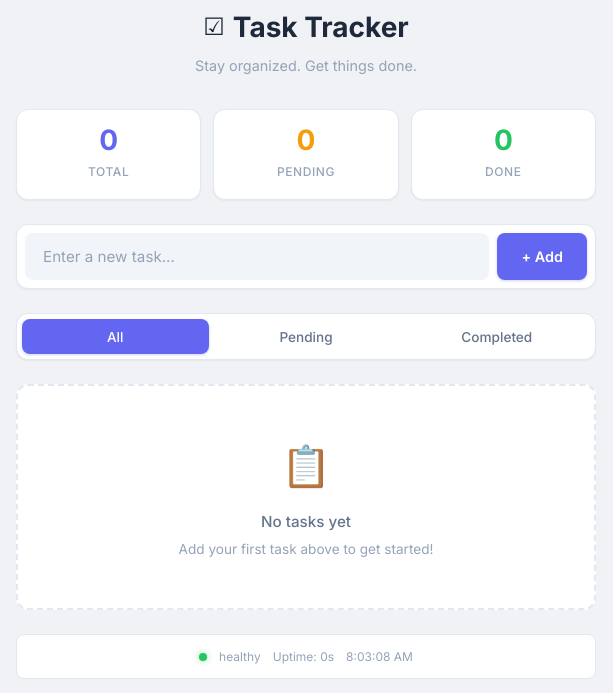
Test: App – Integration › filters tasks by status
Note: Add two tasks
Step 1. Type "Task A" into the field with placeholder "Enter a new task..." → (257, 257), box [25,233,490,280]
Step 2. Click the button "+ Add" → click(542, 257), box [498,233,587,280]
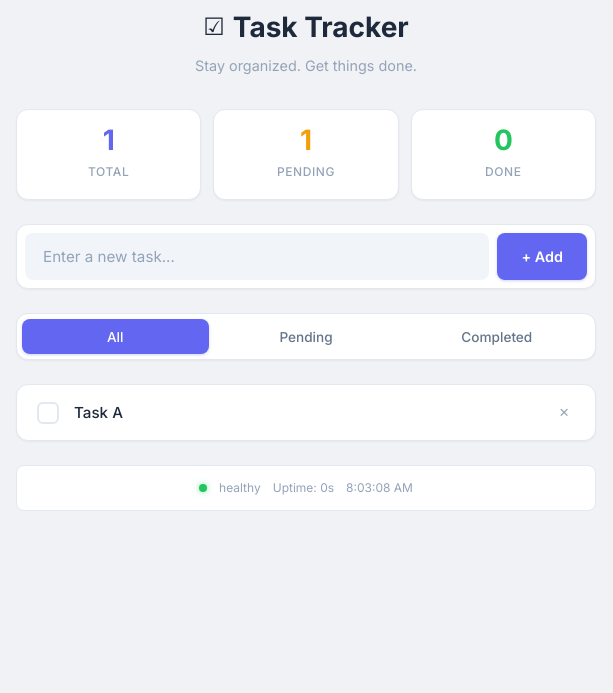
Step 3. Type "Task B" into the field with placeholder "Enter a new task..." → (257, 257), box [25,233,490,280]
Step 4. Click the button "+ Add" → click(542, 257), box [498,233,587,280]
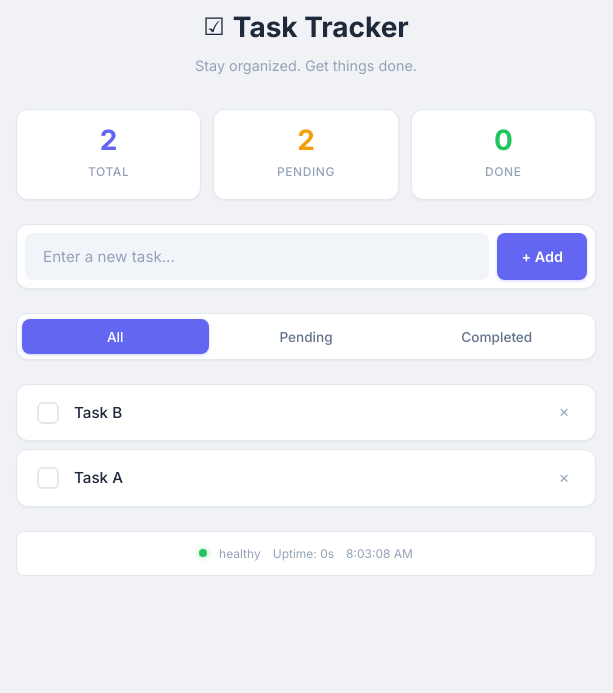
Note: Complete Task A
Step 5. Click the checkbox labelled "Task A" → click(48, 478), box [37,467,59,489]
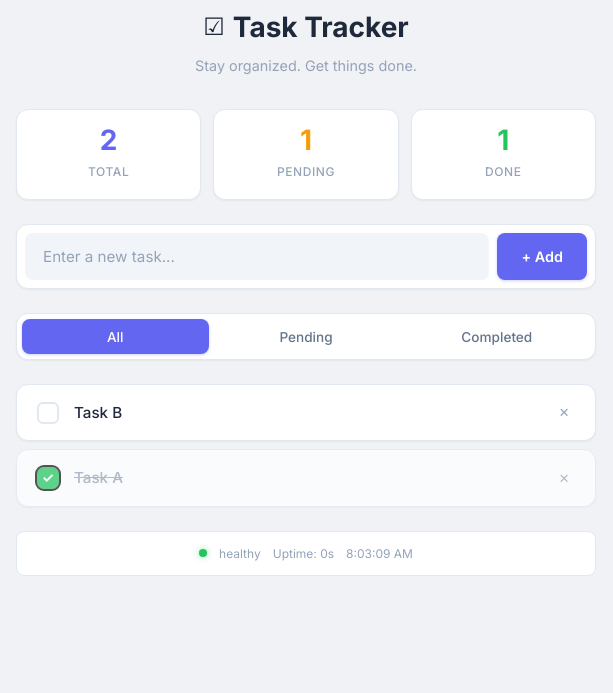
Note: Filter to Completed
Step 6. Click the button "Completed" → click(497, 337), box [403,319,590,354]
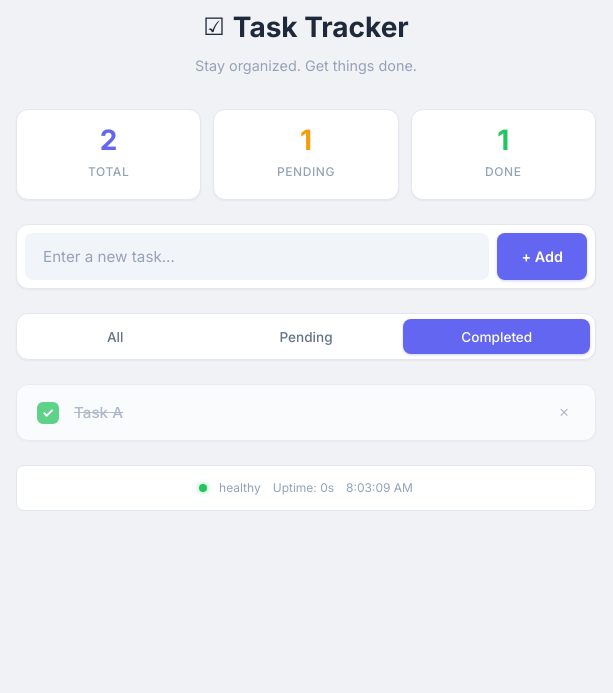
Expected: the text "Task A" is shown, [74,401,123,425]
Expected: the text "Task B" is gone
Note: Filter to Pending
Step 7. Click the button "Pending" → click(306, 337), box [213,319,399,354]
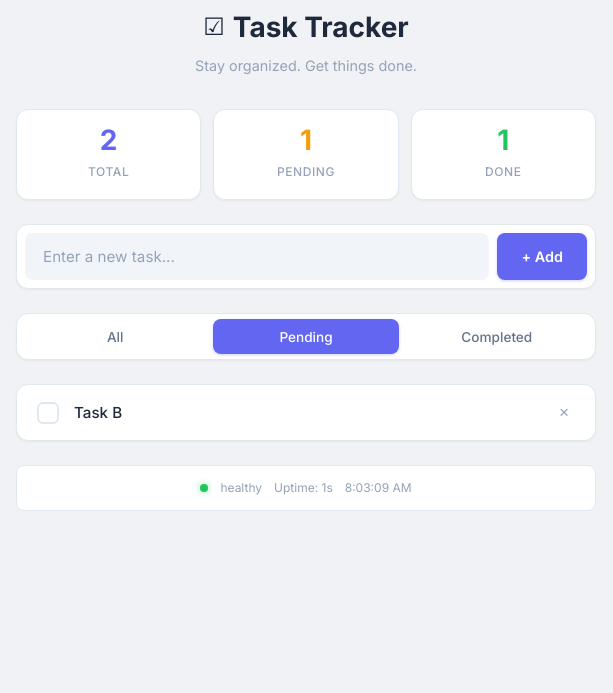
Expected: the text "Task A" is gone
Expected: the text "Task B" is shown, [74,401,122,425]
Note: Back to All
Step 8. Click the button "All" → click(115, 337), box [22,319,209,354]
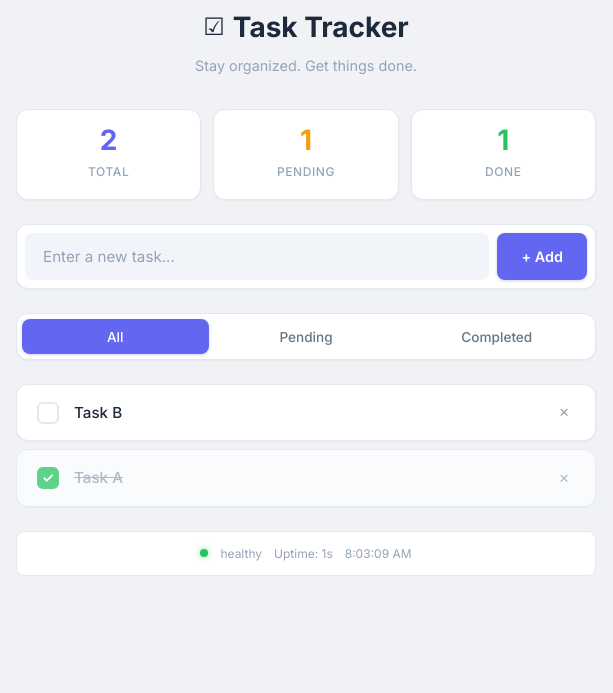
Expected: the text "Task B" is shown, [74,401,122,425]
Expected: the text "Task A" is shown, [74,466,123,490]
